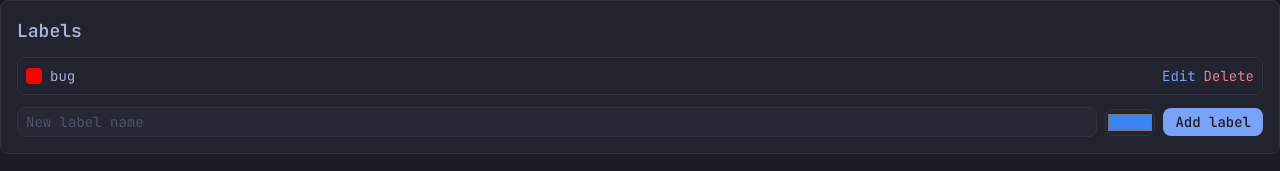
Test case: LabelsManager › deletes an unused label without confirmation
Expected: the text "bug" is shown, [50, 67, 75, 85]
Click the button "Delete".
click(1229, 76)  # box [1204, 66, 1254, 86]
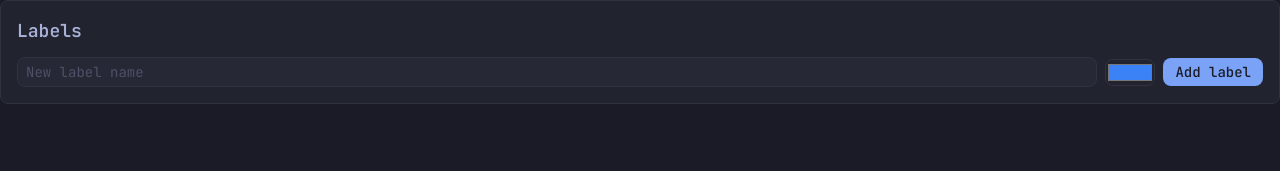
Now the text "bug" is gone
